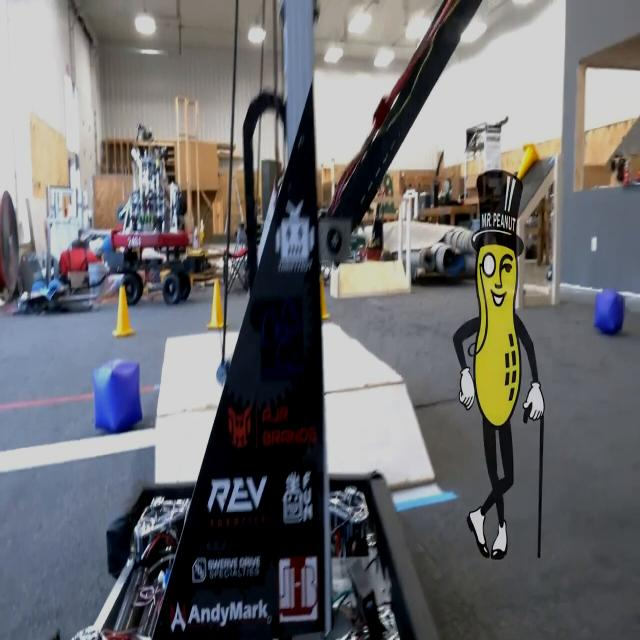frc_cone: (316, 275, 336, 319), (113, 287, 131, 333), (211, 281, 223, 329)
frc_cube: (88, 356, 144, 434), (594, 282, 628, 339)
